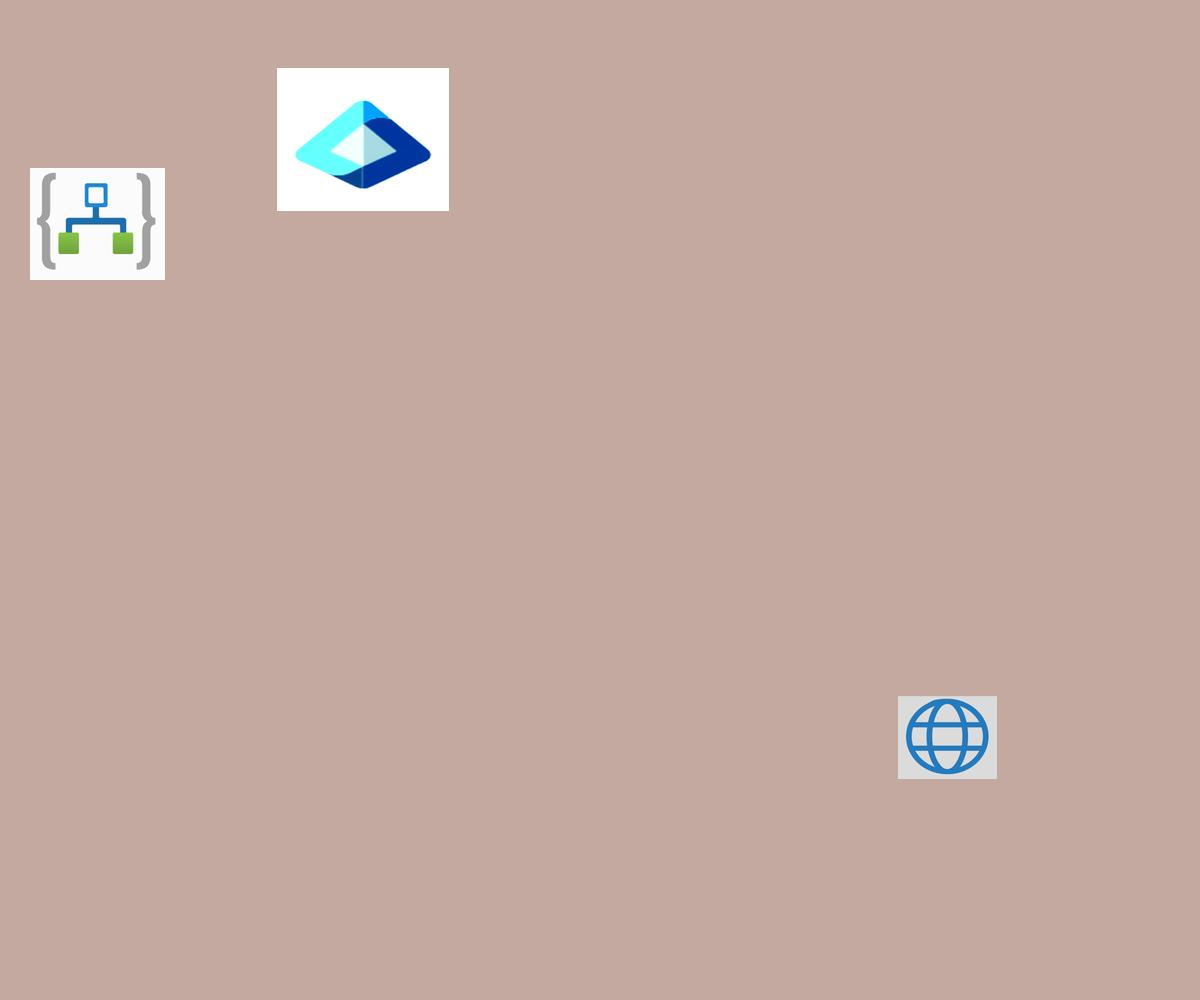Azure_http: (898, 696, 997, 779)
Azure_integration-204-Logic-Apps: (30, 168, 165, 280)
Azure_microsoft_entra: (277, 68, 449, 211)
